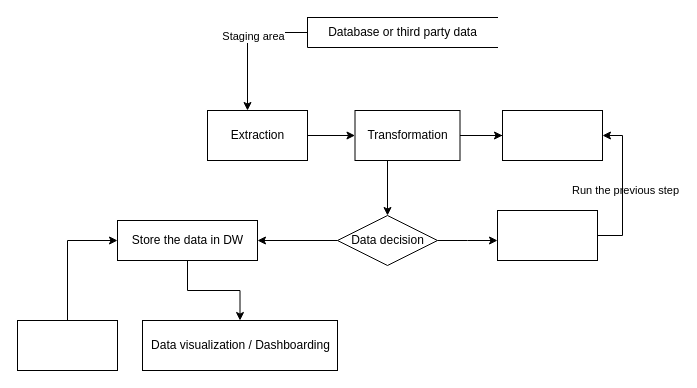
Image size: 697x388. Some labels were removed from this diagram. Here are the shapes that lost their labels. From the top down, the centre of each, then its label:
point (552, 135): Loading
point (547, 235): Extract a log file
point (67, 345): Reporting
